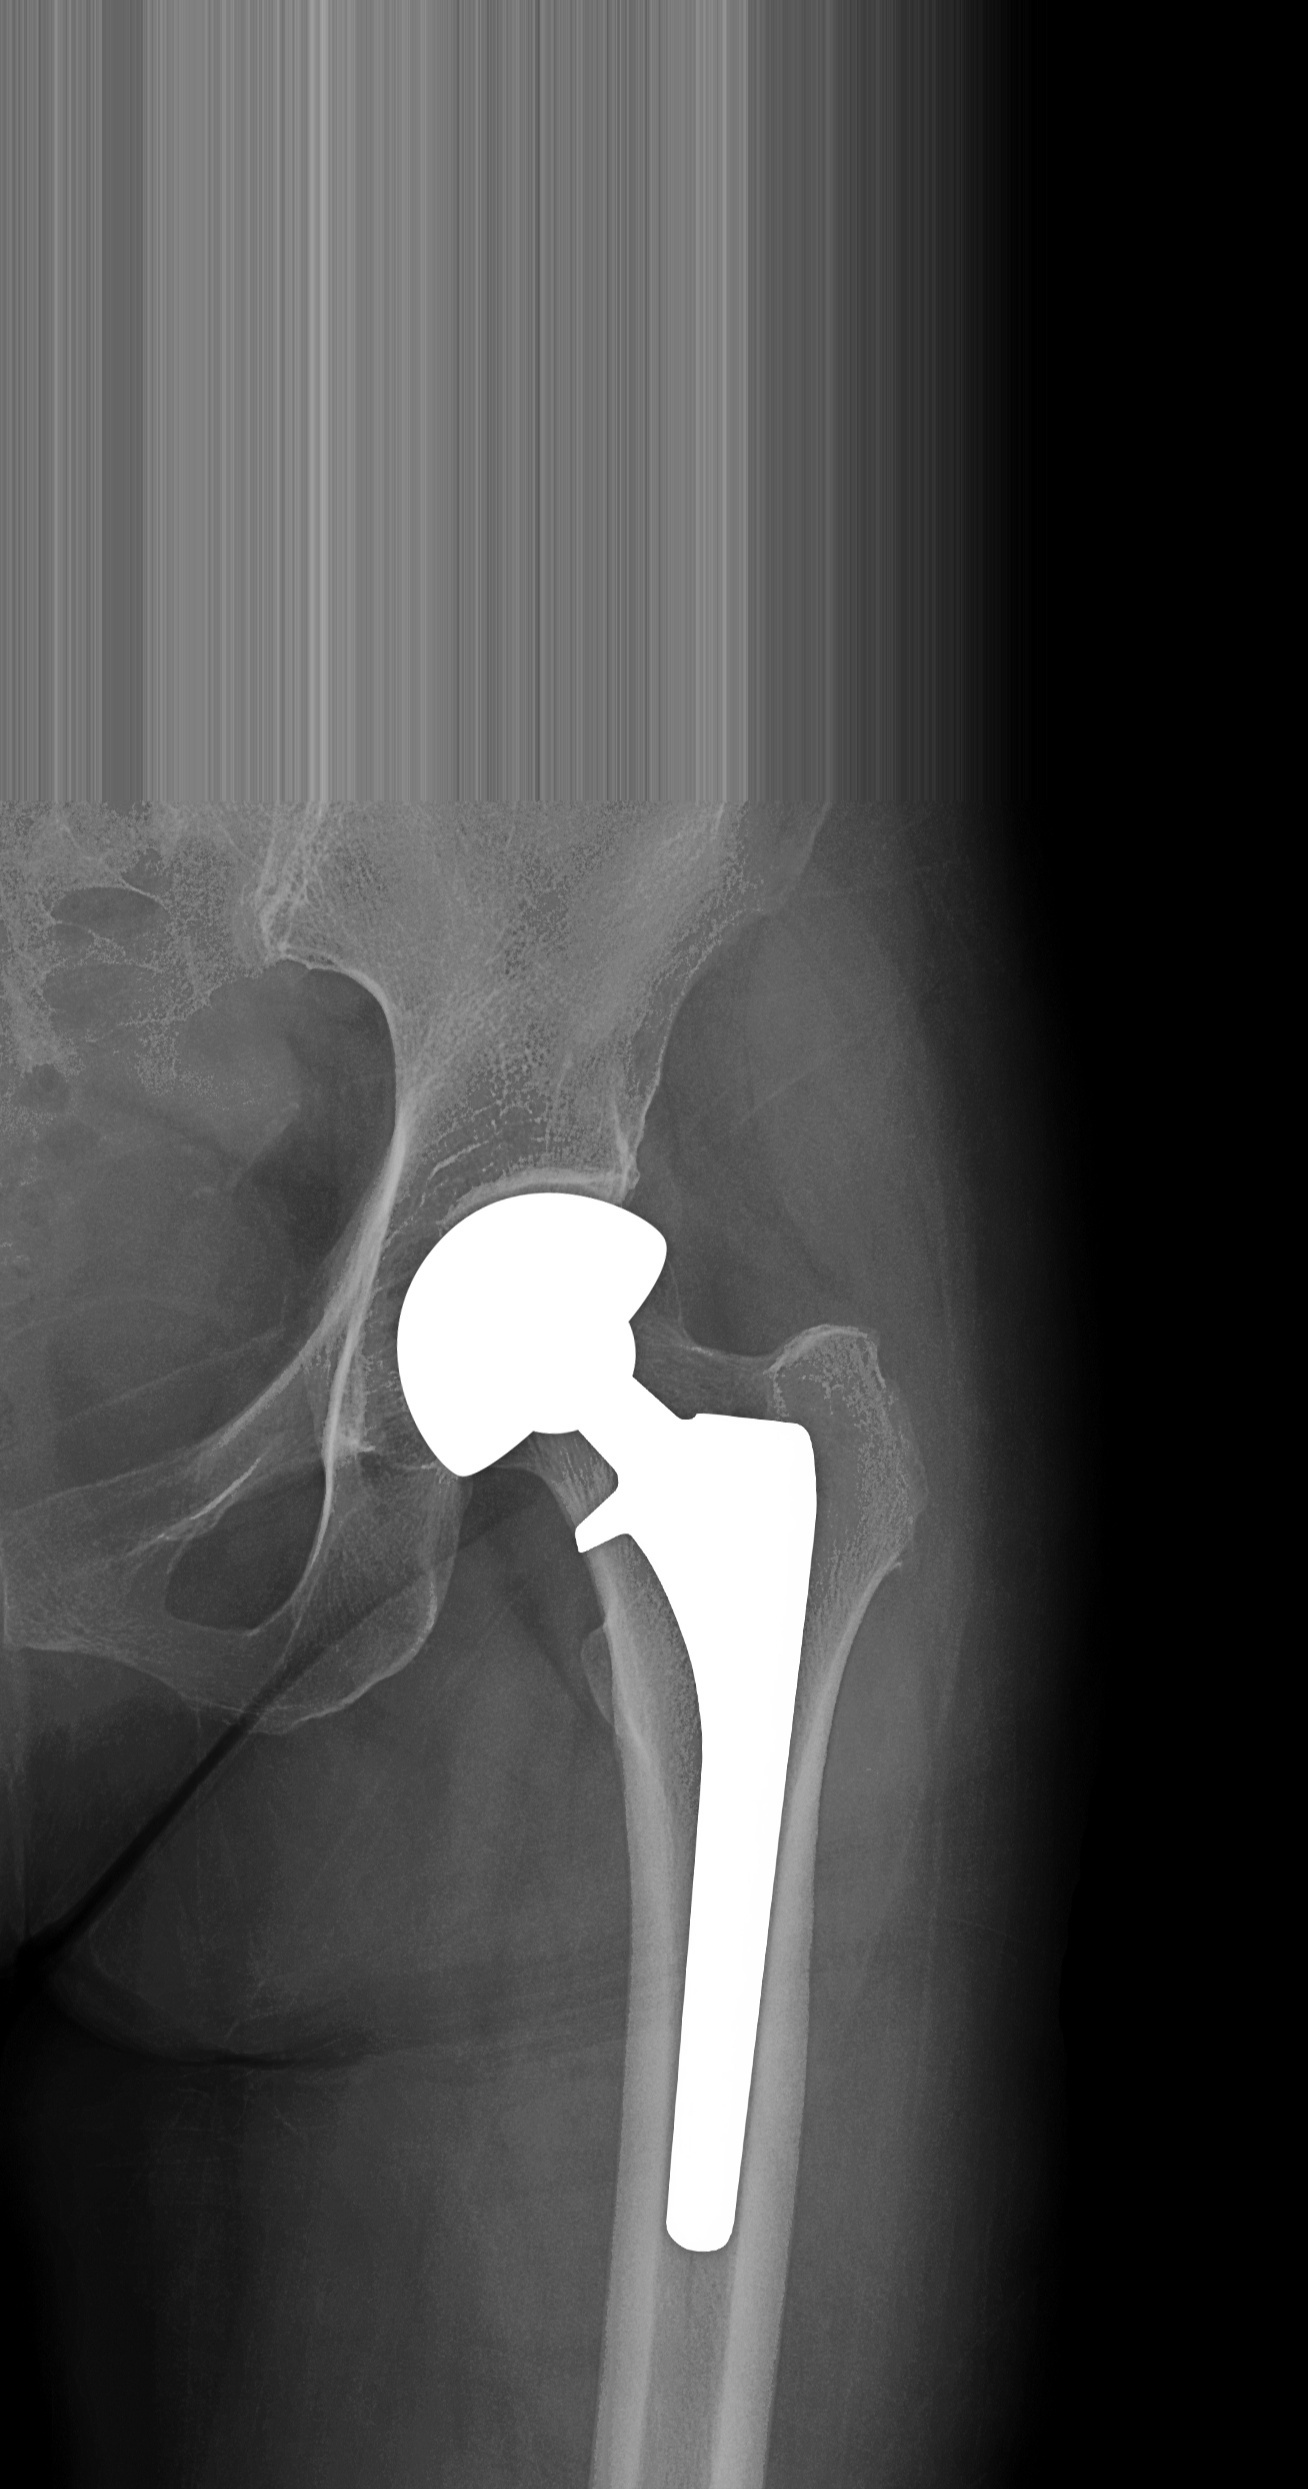Hip - APR - Zimmer: (377, 1174, 874, 2298)
